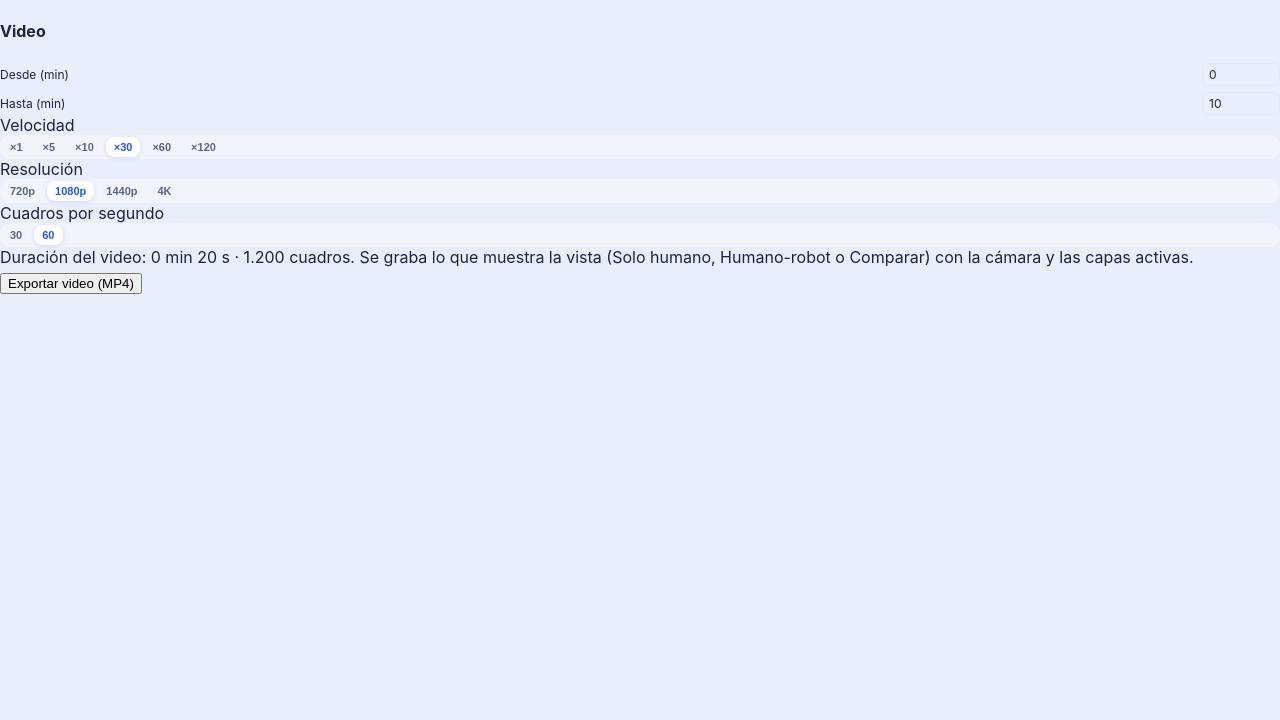
Test case: VideoPanel › avisa si el navegador no puede codificar
Click the button with test id "video-export" at [71, 283], box top-left (0, 272), bottom-right (142, 294)
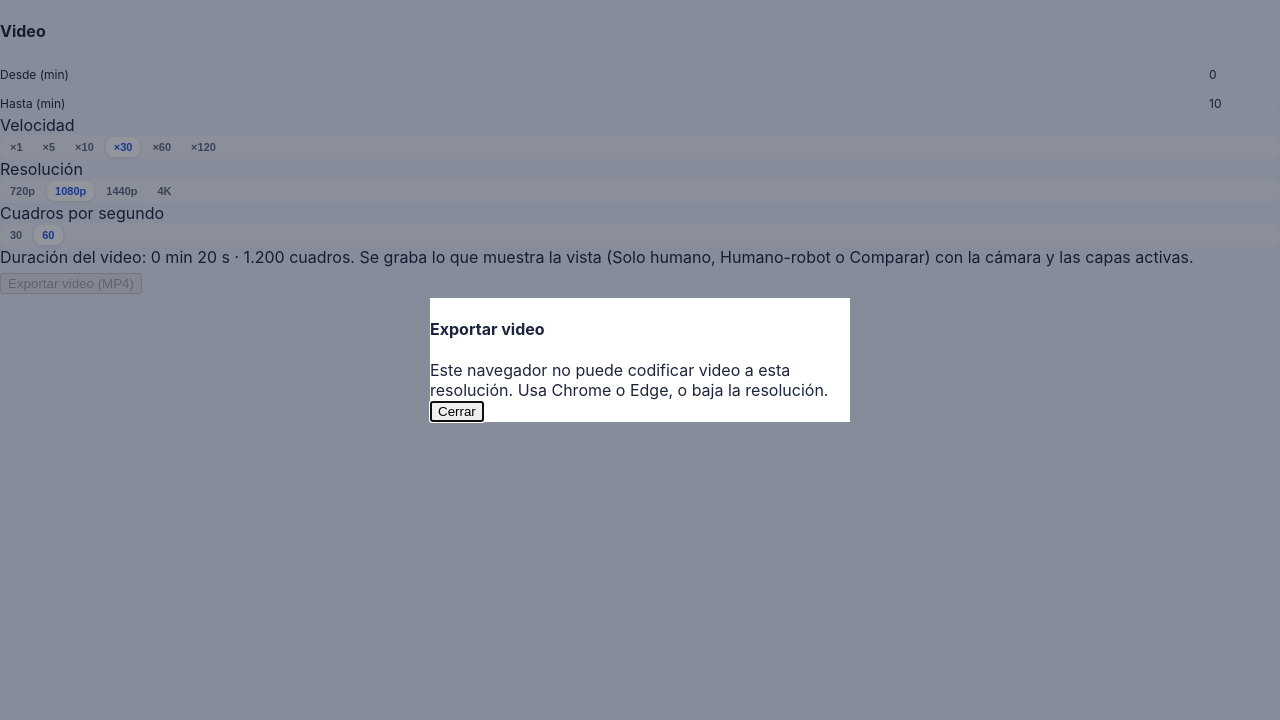
Expected: the text "no puede codificar video" is shown, top-left (430, 360), bottom-right (828, 400)
